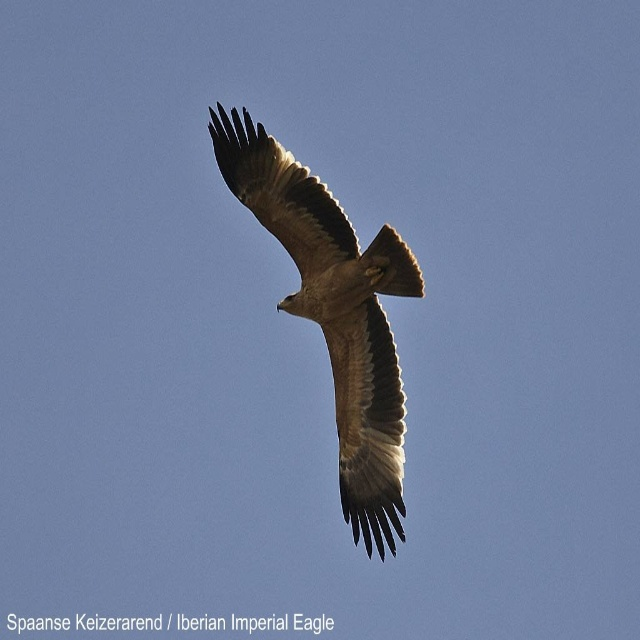Eagle: (203, 97, 428, 567)
